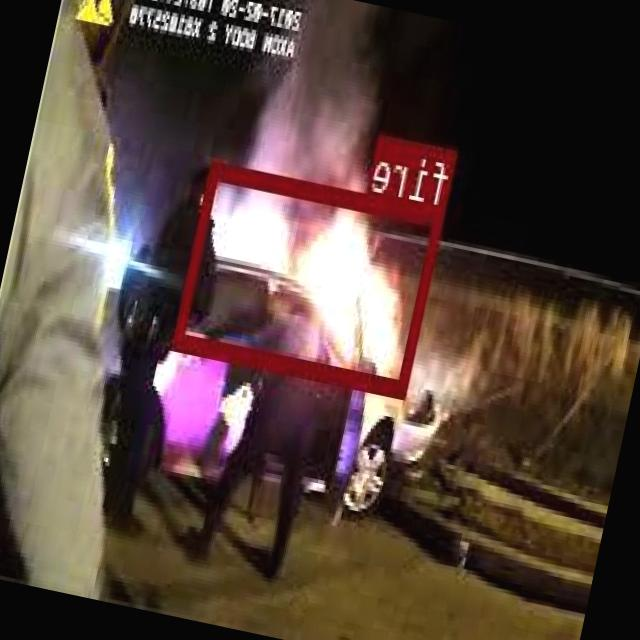fire: (174, 158, 448, 394)
